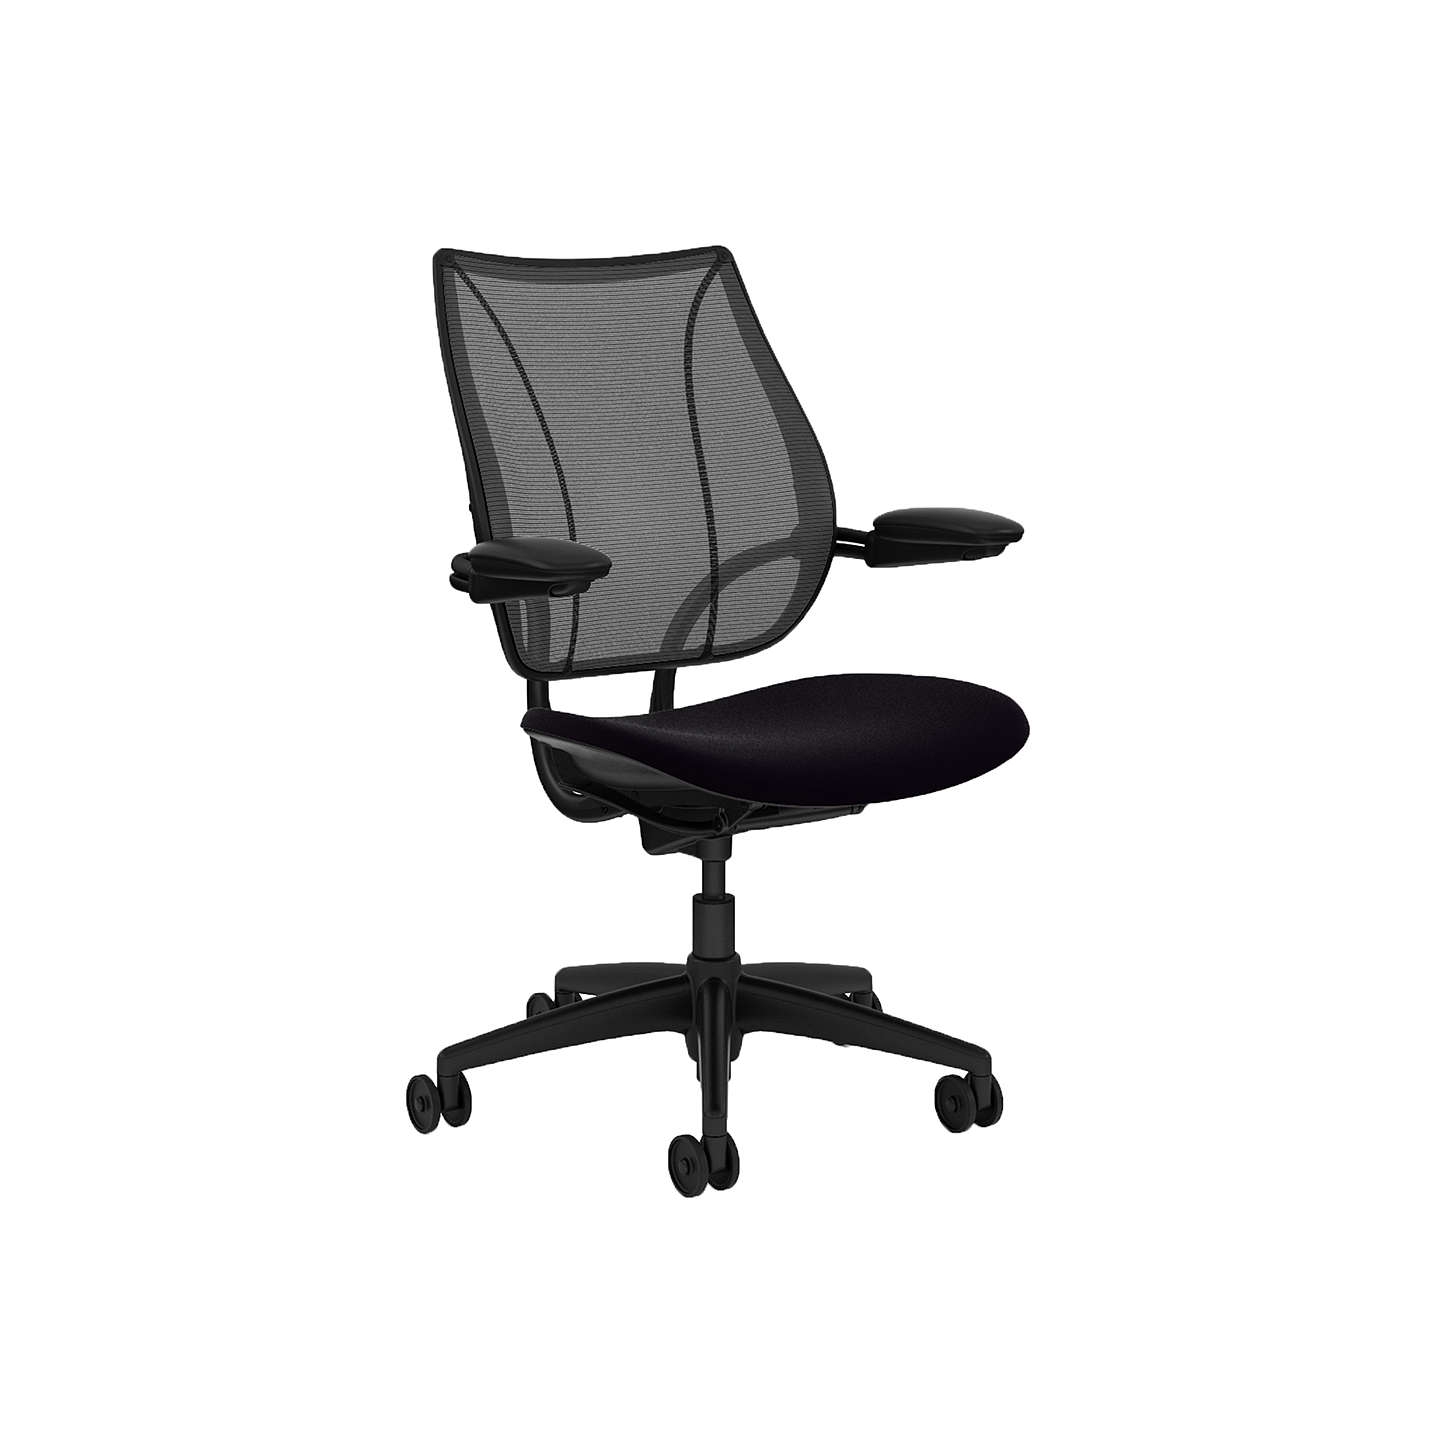chairs: (388, 240, 1031, 1204)
